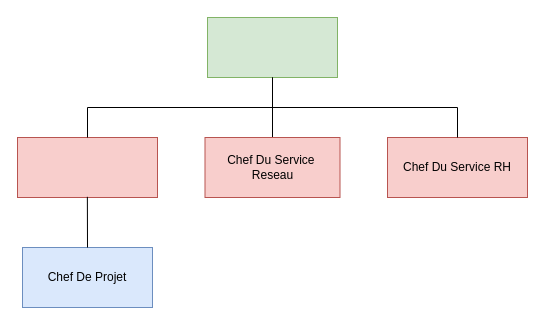
The diagram is 545 pixels wide and 325 high, and some of its shapes have lost their labels. The shapes that lost their labels are listed below. From the top down, each one's box as (x1, y1, x2, y2) in pixels, then its label:
(206, 16, 338, 78): Direction General
(16, 136, 158, 198): Service Development
